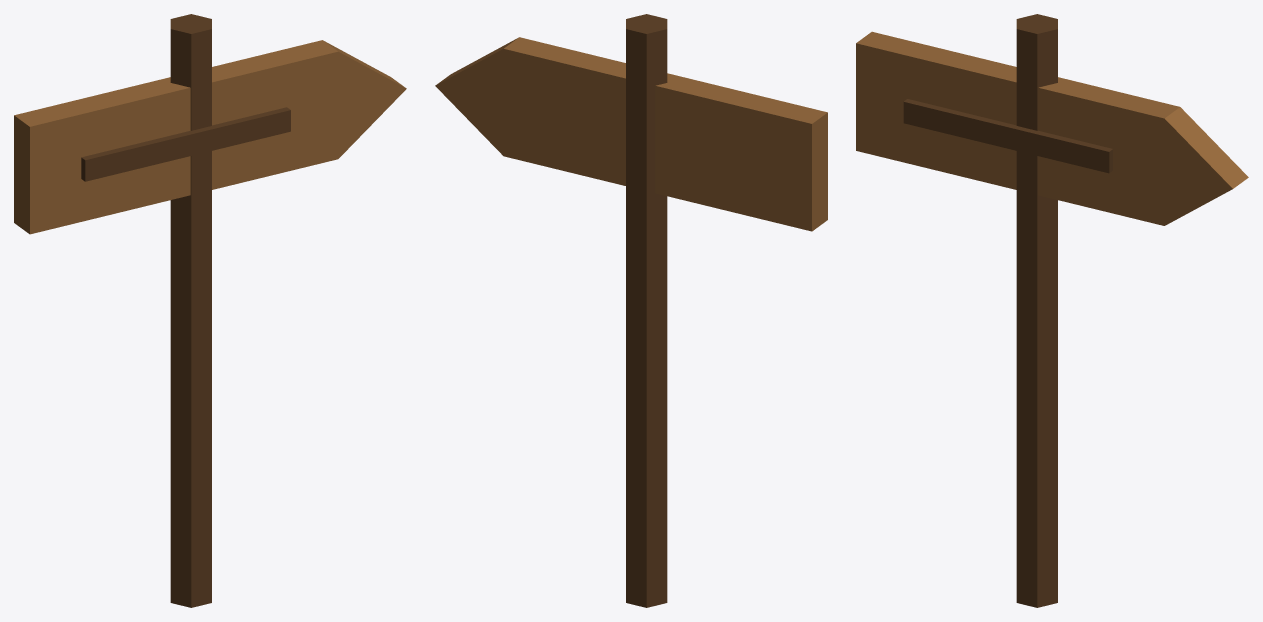
File: sign.glb
The picture shows the model from 3 angles, left to right: view 1: azimuth 30°, elevation 25°; view 2: azimuth 150°, elevation 25°; view 3: azimuth 330°, elevation 25°; orthographic projection.
Parts seen in each view (by area): view 1: wood, wood_dark-col; view 2: wood, wood_dark-col; view 3: wood, wood_dark-col.
Boxes of the visible parts, <box> form: wood: <box>14,40,406,234</box>; wood_dark-col: <box>81,14,290,607</box>; wood: <box>435,37,827,231</box>; wood_dark-col: <box>626,14,667,607</box>; wood: <box>856,31,1248,225</box>; wood_dark-col: <box>903,14,1112,607</box>.
Bounding box in the file's own units: 1.1 × 1.6 × 0.122.
